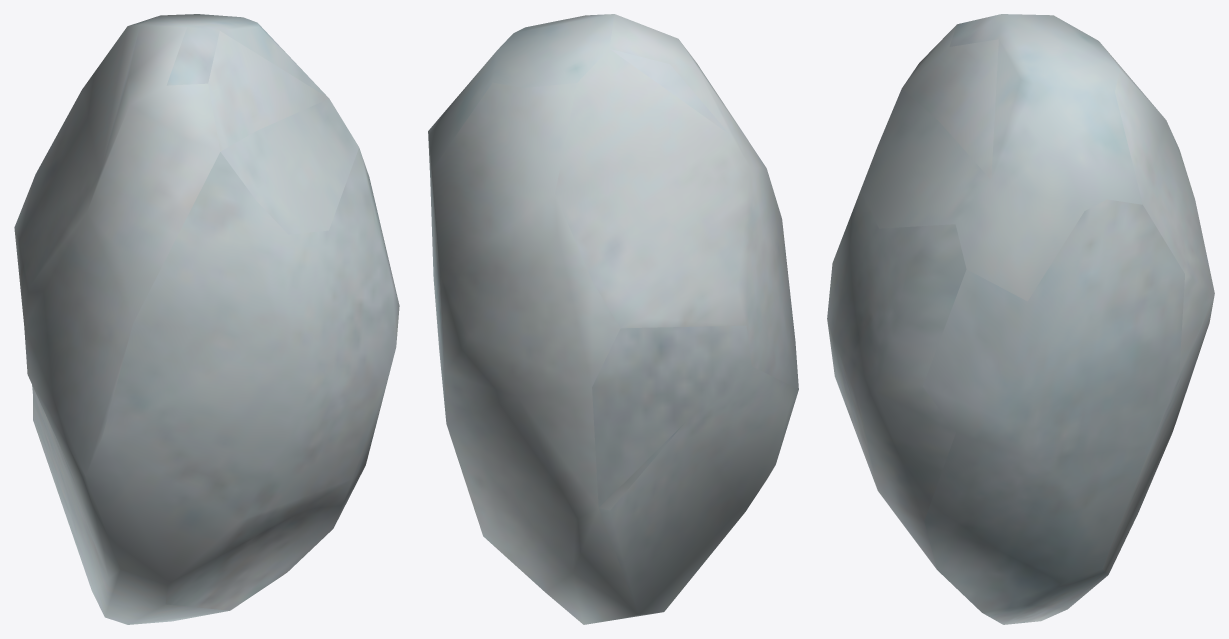
The model's file is P_RockClassic15.obj.
3 renders of one model, left to right at view 1: azimuth 30°, elevation 25°; view 2: azimuth 150°, elevation 25°; view 3: azimuth 270°, elevation 25°, orthographic. The views are drawn at different scales.
Size of the model in its own units: 2.21 by 3.82 by 2.22.
